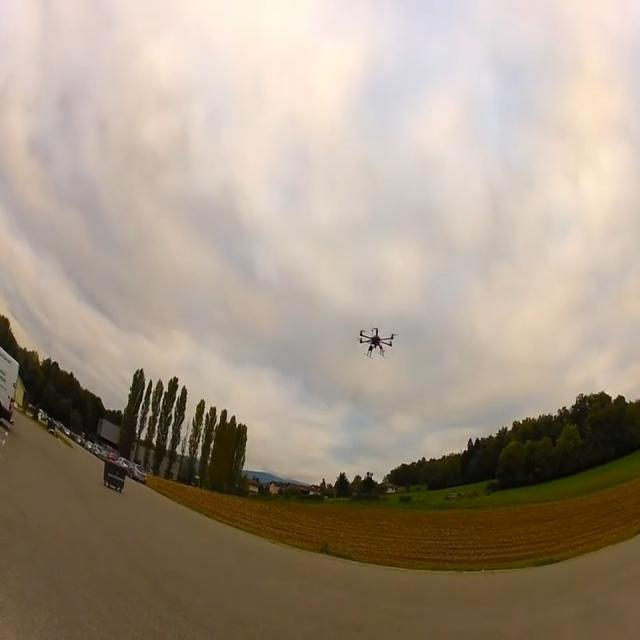drone: (357, 326, 397, 358)
